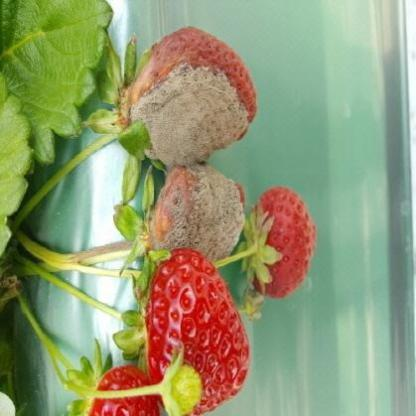Strawberry_Gray_Mold: (126, 59, 254, 171), (145, 162, 247, 263)
